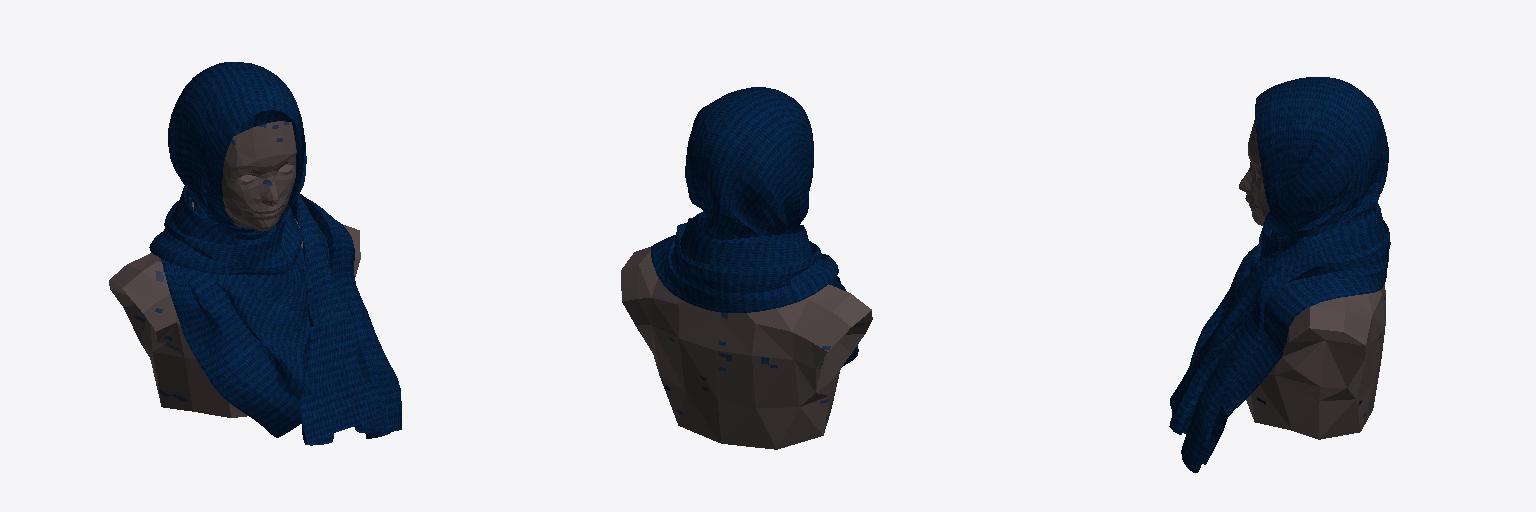
3 renders of one model, left to right at view 1: azimuth 30°, elevation 25°; view 2: azimuth 150°, elevation 25°; view 3: azimuth 270°, elevation 25°, orthographic.
Parts seen in each view (by area): view 1: Model001_hijab; view 2: Model001_hijab; view 3: Model001_hijab.
Part boxes in pixels (x1,y1,x2,y2): Model001_hijab: (109,62,401,445); Model001_hijab: (621,87,872,449); Model001_hijab: (1169,77,1390,472).
Size of the model in its own units: 4.35 by 6.07 by 3.51.
Materials: 1 (1 with a texture image).